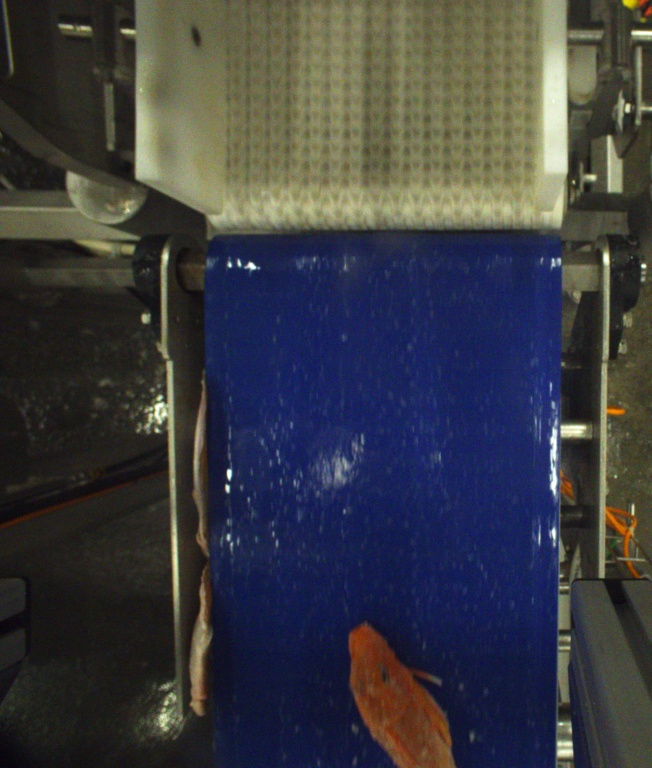GUU: (346, 623, 460, 768)
